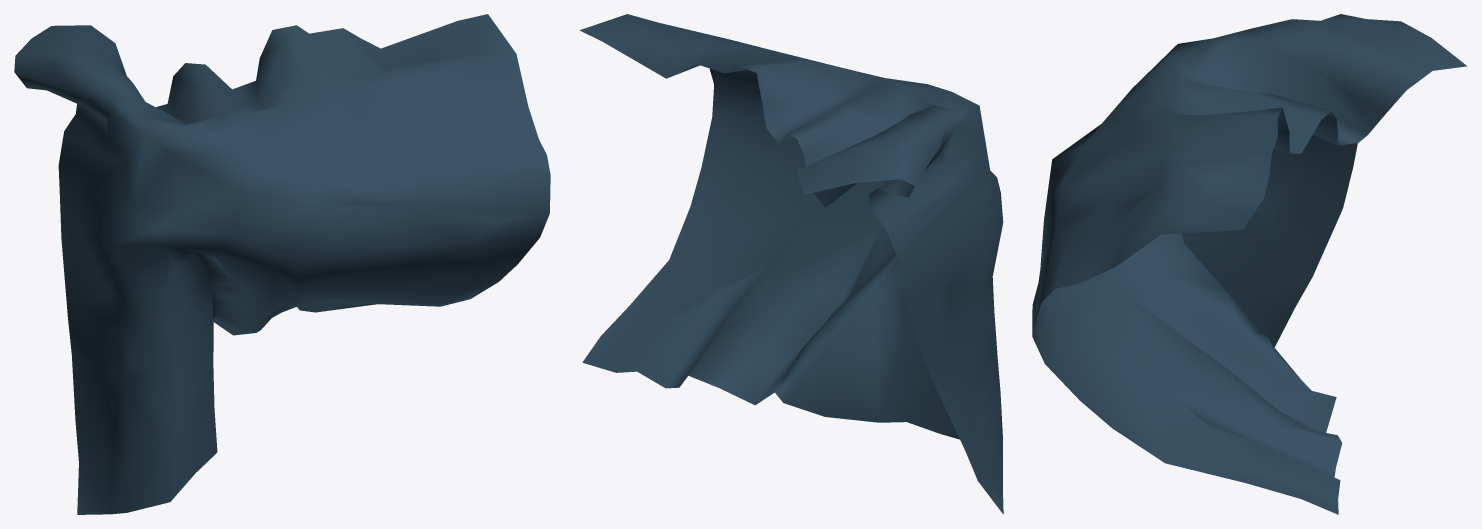
Rendered from Fp208_Throwblancket2SofaBlanket_208_1.obj.
The picture shows the model from 3 angles, left to right: view 1: azimuth 30°, elevation 25°; view 2: azimuth 150°, elevation 25°; view 3: azimuth 270°, elevation 25°; orthographic projection. The views are drawn at different scales.
Parts seen in each view (by area): view 1: SofaBlanket_208; view 2: SofaBlanket_208; view 3: SofaBlanket_208.
Boxes of the visible parts, bbox=[...] form: SofaBlanket_208: bbox=[14, 14, 550, 514]; SofaBlanket_208: bbox=[580, 14, 1003, 514]; SofaBlanket_208: bbox=[1032, 14, 1466, 514].
Bounding box in the file's own units: 0.7222 × 0.6784 × 0.6092.
